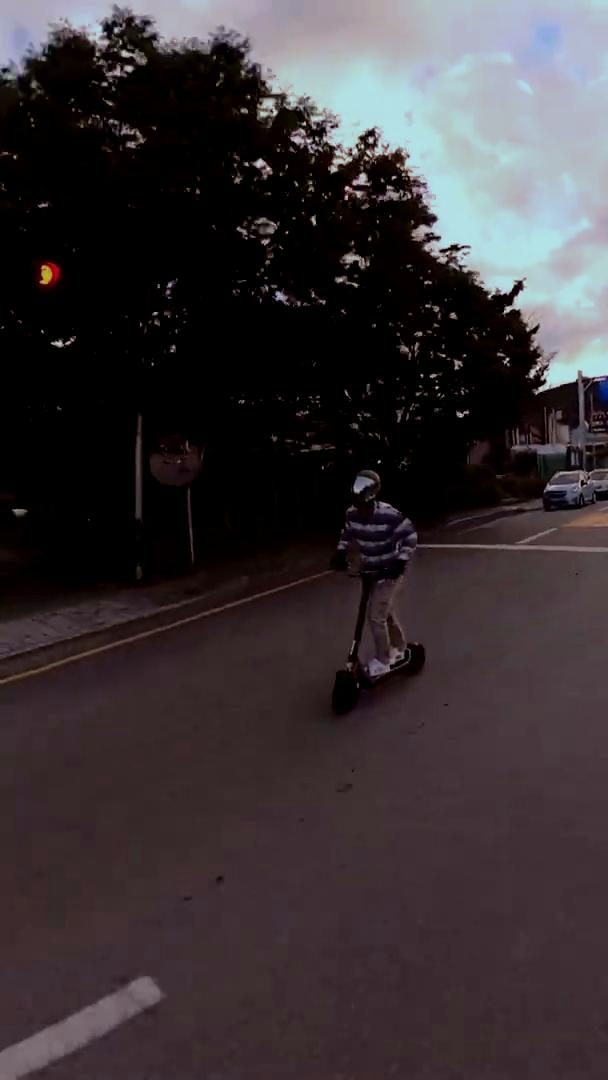helmet: (324, 467, 427, 718)
